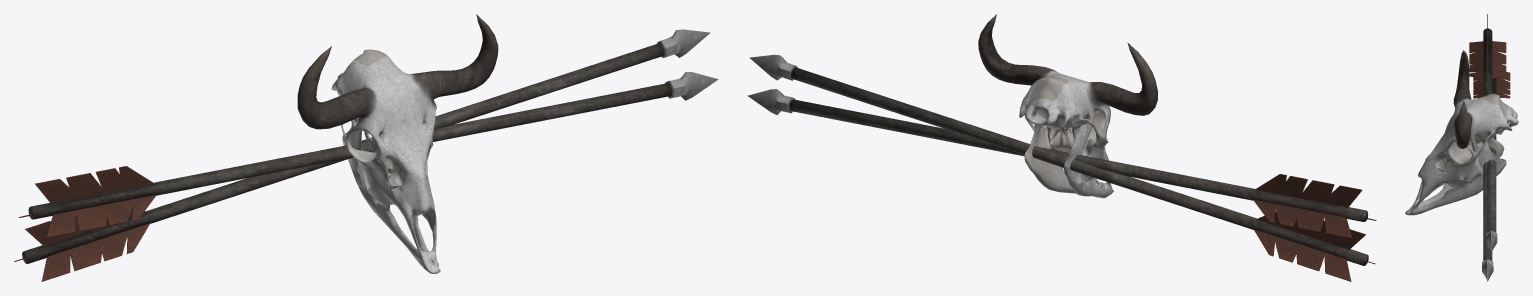
File: topping_10.glb
The picture shows the model from 3 angles, left to right: view 1: azimuth 30°, elevation 25°; view 2: azimuth 150°, elevation 25°; view 3: azimuth 270°, elevation 25°; orthographic projection. The views are drawn at different scales.
Visible parts, largest first — view 1: palka_12; view 2: palka_12; view 3: palka_12.
Part boxes in pixels (x1,y1,x2,y2): palka_12: [14, 14, 718, 281]; palka_12: [747, 14, 1376, 281]; palka_12: [1405, 14, 1518, 281].
Bounding box in the file's own units: 97.92 × 28.95 × 20.61.
4 materials, 4 textured.
